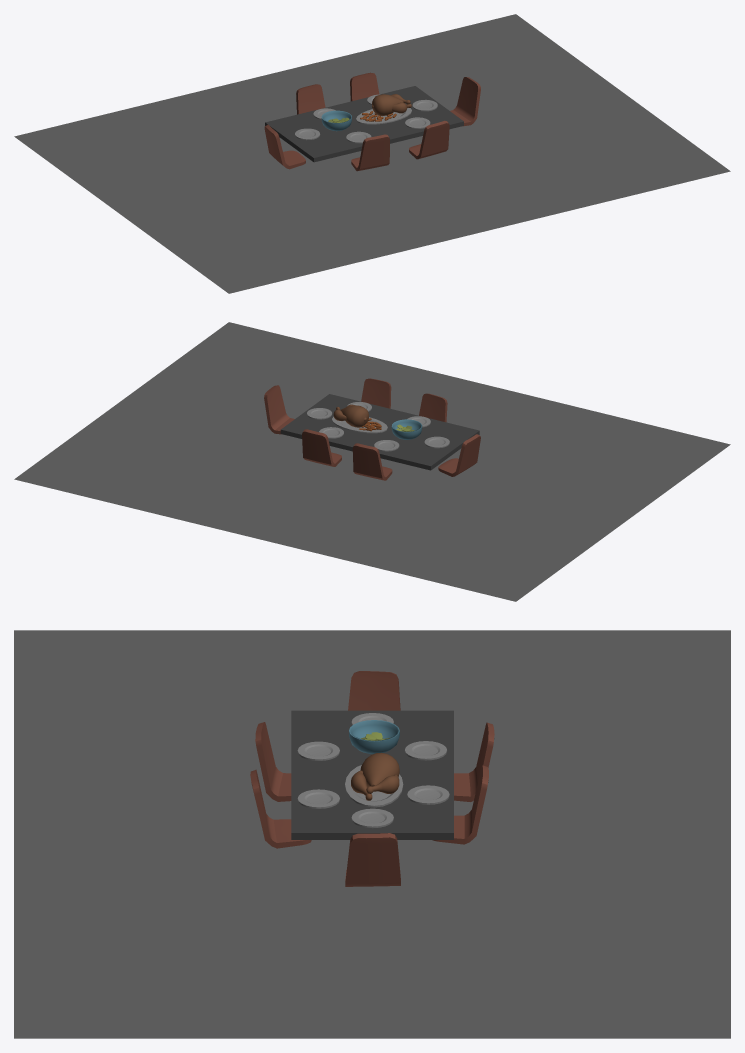
The model's file is dinnerTable.fbx.
3 renders of one model, top to bottom at view 1: azimuth 30°, elevation 25°; view 2: azimuth 150°, elevation 25°; view 3: azimuth 270°, elevation 25°, orthographic. The views are drawn at different scales.
Visible parts, largest first — view 1: pPlane153; view 2: pPlane153; view 3: pPlane153.
Part boxes in pixels (x1=…): pPlane153: x1=14, y1=14, x2=730, y2=293; pPlane153: x1=14, y1=322, x2=730, y2=601; pPlane153: x1=14, y1=630, x2=730, y2=1038.
Bounding box in the file's own units: 26.74 × 2.73 × 19.83.
